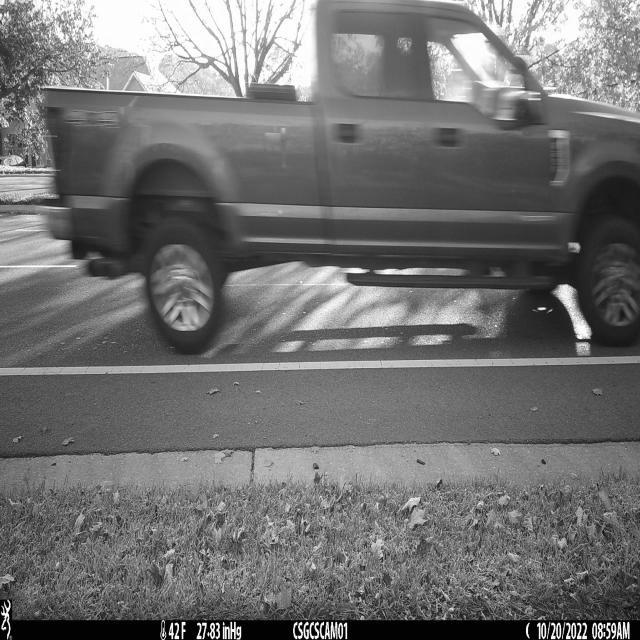Pickup: (37, 0, 640, 354)
